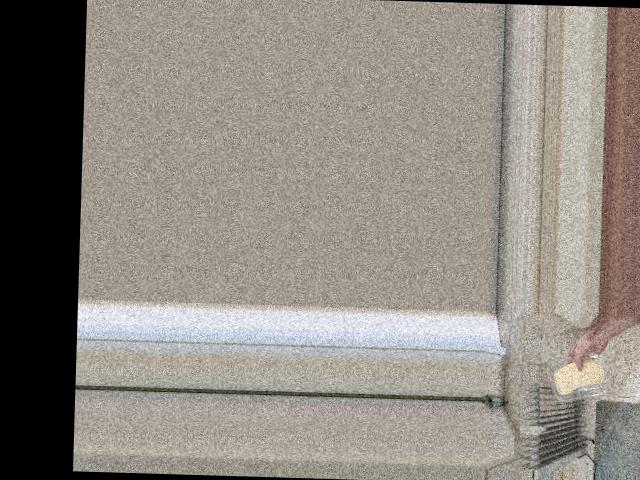cheese: (548, 354, 607, 397)
